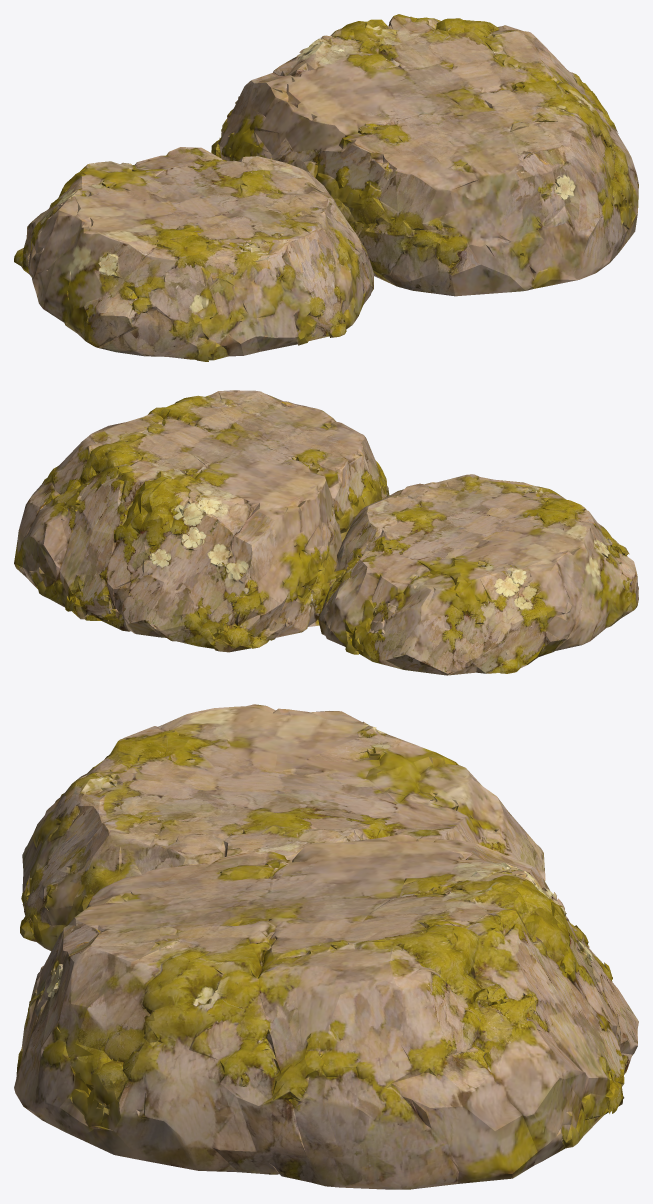
Rendered from boulder_b.glb.
3 views of the same model, one above another, from view 1: azimuth 30°, elevation 25°; view 2: azimuth 150°, elevation 25°; view 3: azimuth 270°, elevation 25° (orthographic). The views are drawn at different scales.
Size of the model in its own units: 1.9 by 0.4231 by 1.28.
1 material, 1 textured.
